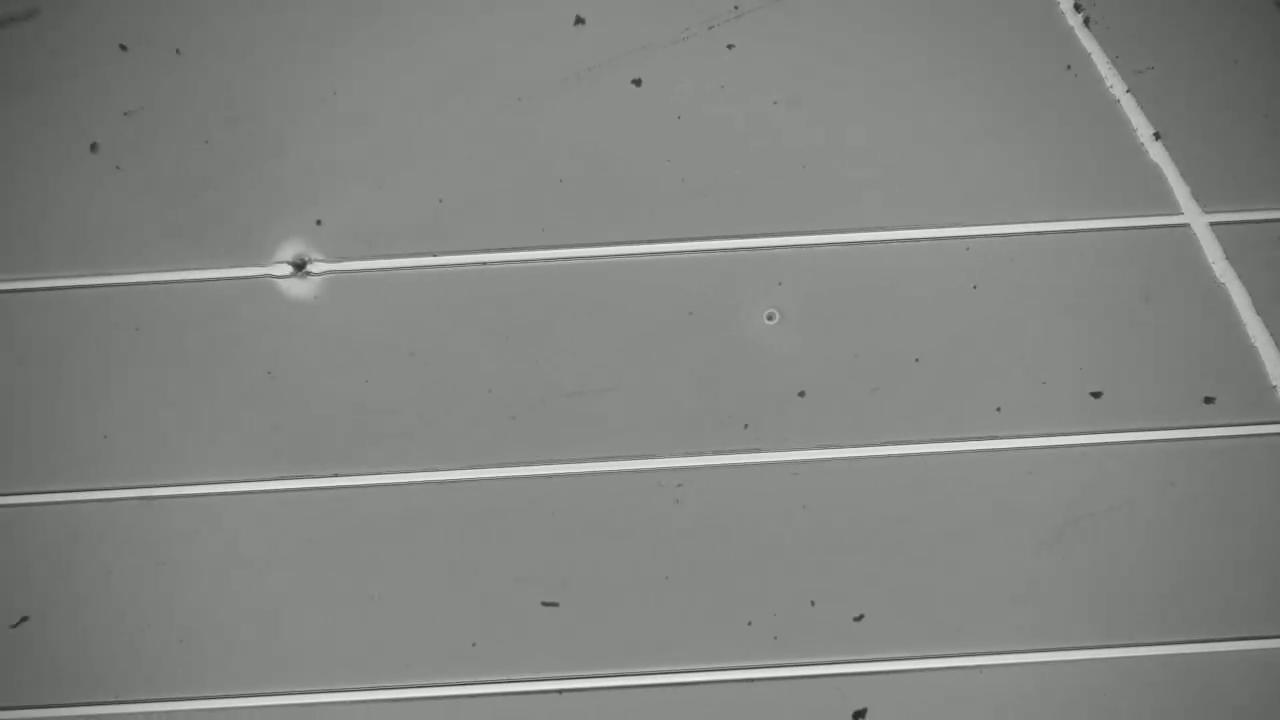stains_enbedded: (276, 244, 323, 291)
